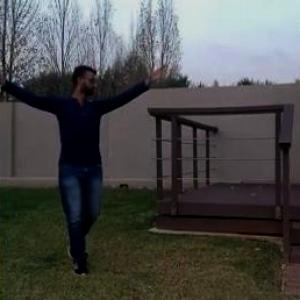takeoff: (0, 65, 167, 272)
